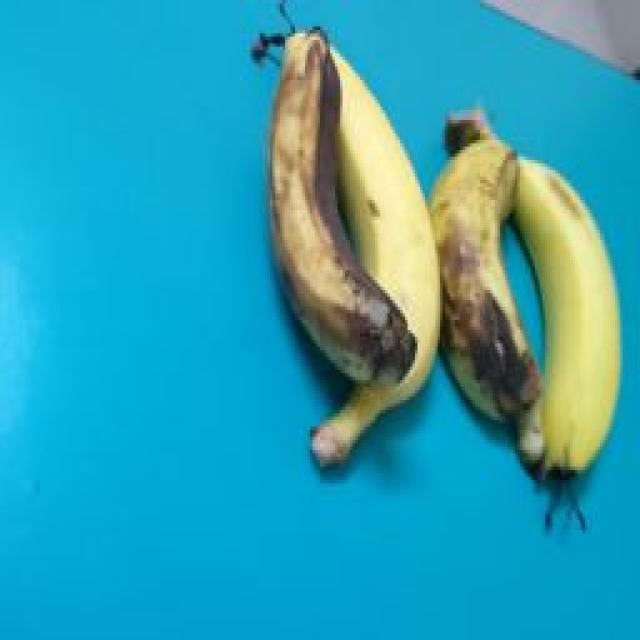Organik: (250, 24, 411, 425), (307, 36, 446, 460), (491, 110, 617, 510), (427, 117, 549, 433)
